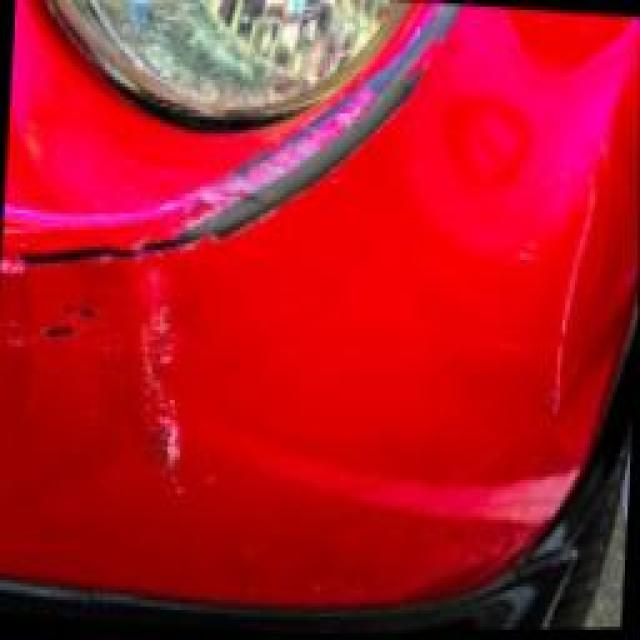Bumper: (0, 14, 640, 635)
